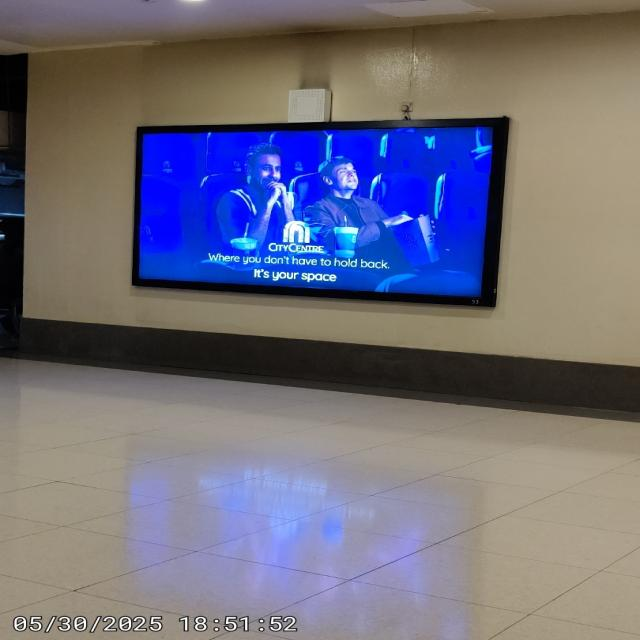digital-board-medium: (137, 121, 504, 306)
